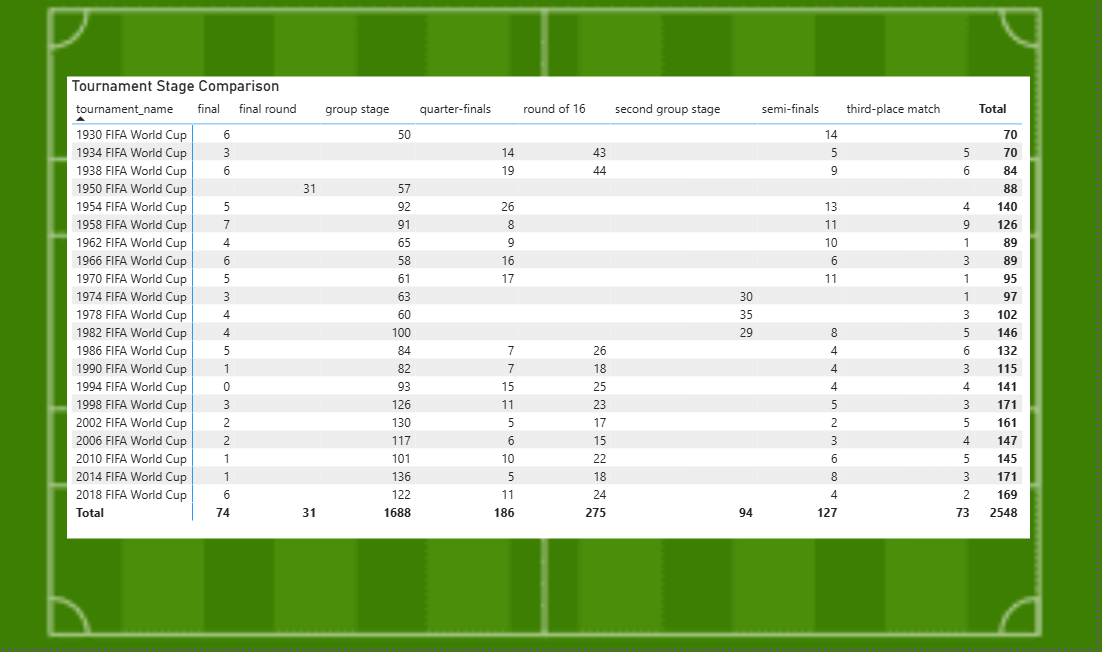

The dashboard page shown, as its layout file describes it:
{"tool":"powerbi","page":{"name":"Tournament Breakdown","canvas":[1280,720],"ordinal":6},"visuals":[{"type":"pivotTable","title":"Tournament Stage Comparison","fields":{"Rows":["matches.tournament_name"],"Columns":["matches.stage_name"],"Values":["Unique Champions.Total Goals"]},"box":[136.7,85,1070,513.3],"z":2000}]}

Visuals, with their boxes in screenshot pixels (x1, y1, x2, y2):
"Tournament Stage Comparison" pivotTable: box(53, 72, 1029, 540)
